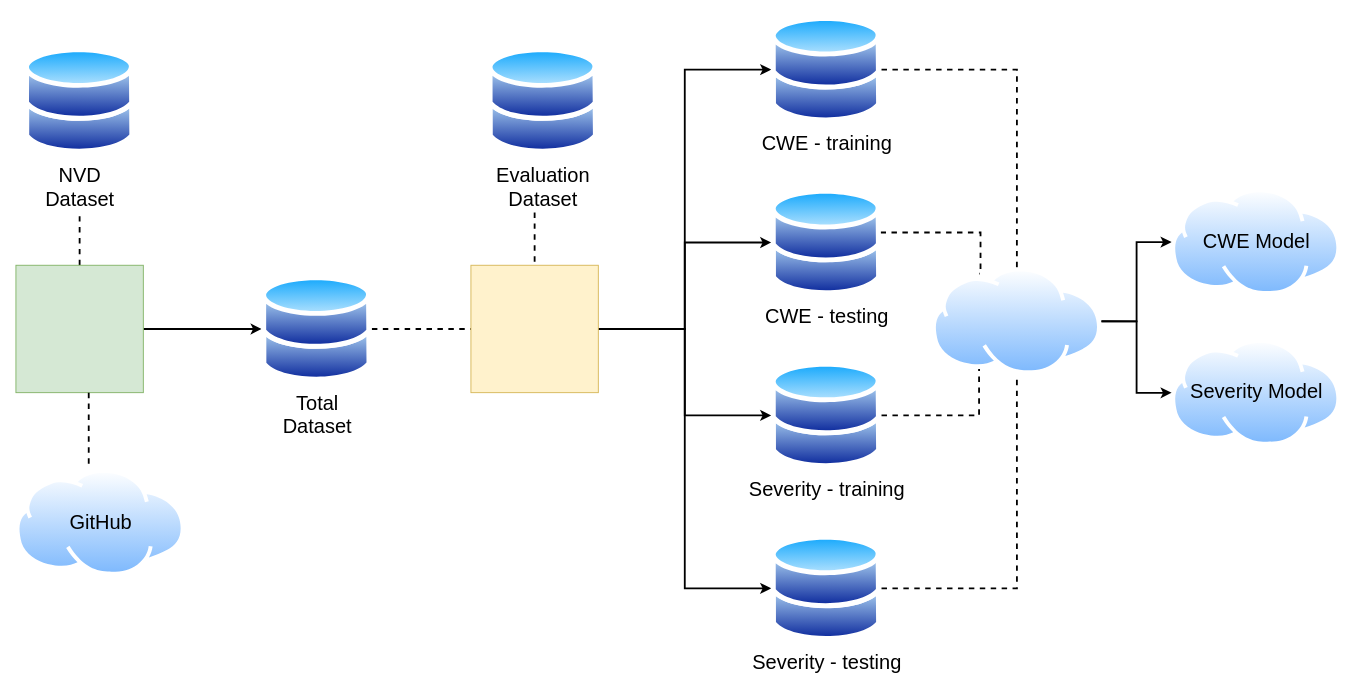
This 1357x691 diagram has some shape labels left out. Each missing label, with the centre of its shape:
"Data Splitter" belongs at point (534, 328).
"LLM" belongs at point (1016, 321).
"Scrap er" belongs at point (79, 328).
